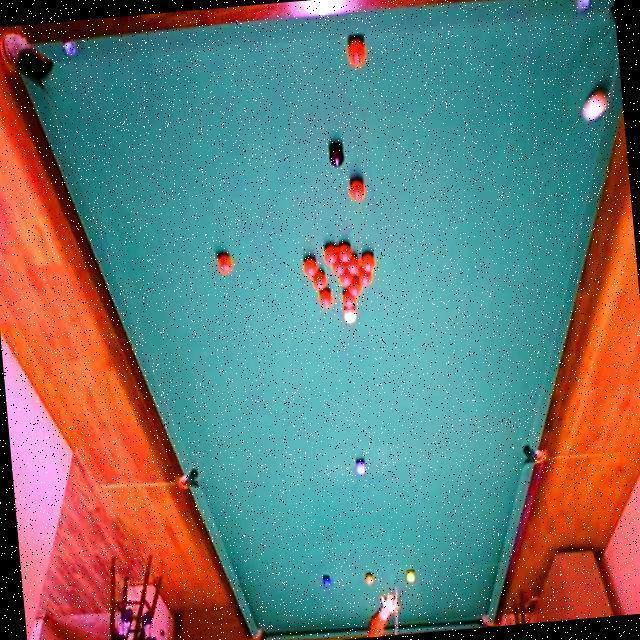Ball: (582, 91, 606, 125), (346, 36, 368, 70), (328, 139, 346, 169), (349, 180, 366, 203), (217, 254, 232, 274), (337, 242, 351, 263), (324, 245, 338, 266), (338, 268, 353, 287), (318, 290, 333, 309), (311, 274, 327, 291), (361, 254, 376, 272), (303, 258, 318, 276), (343, 309, 357, 326), (358, 269, 372, 286), (348, 279, 361, 297), (342, 293, 356, 309), (346, 258, 359, 274), (354, 460, 366, 476), (332, 261, 345, 275), (364, 571, 374, 585), (321, 576, 331, 589), (406, 570, 415, 583)
